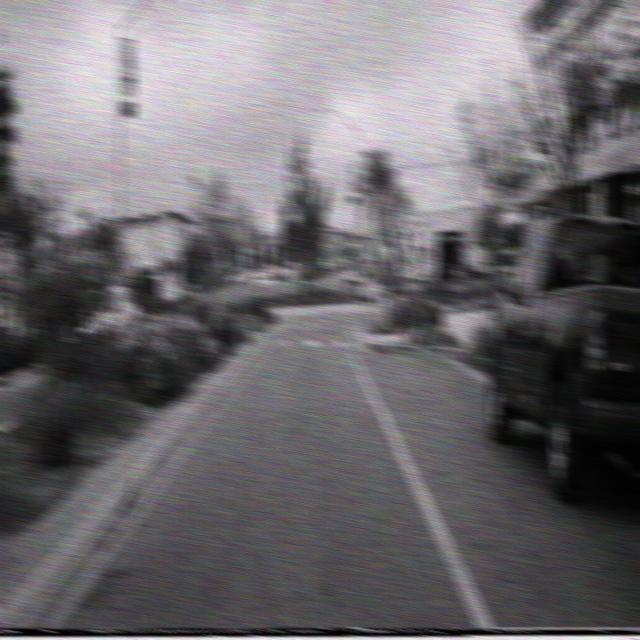pedestrianCrossing: (391, 217, 418, 264)
yield: (367, 233, 387, 261)
